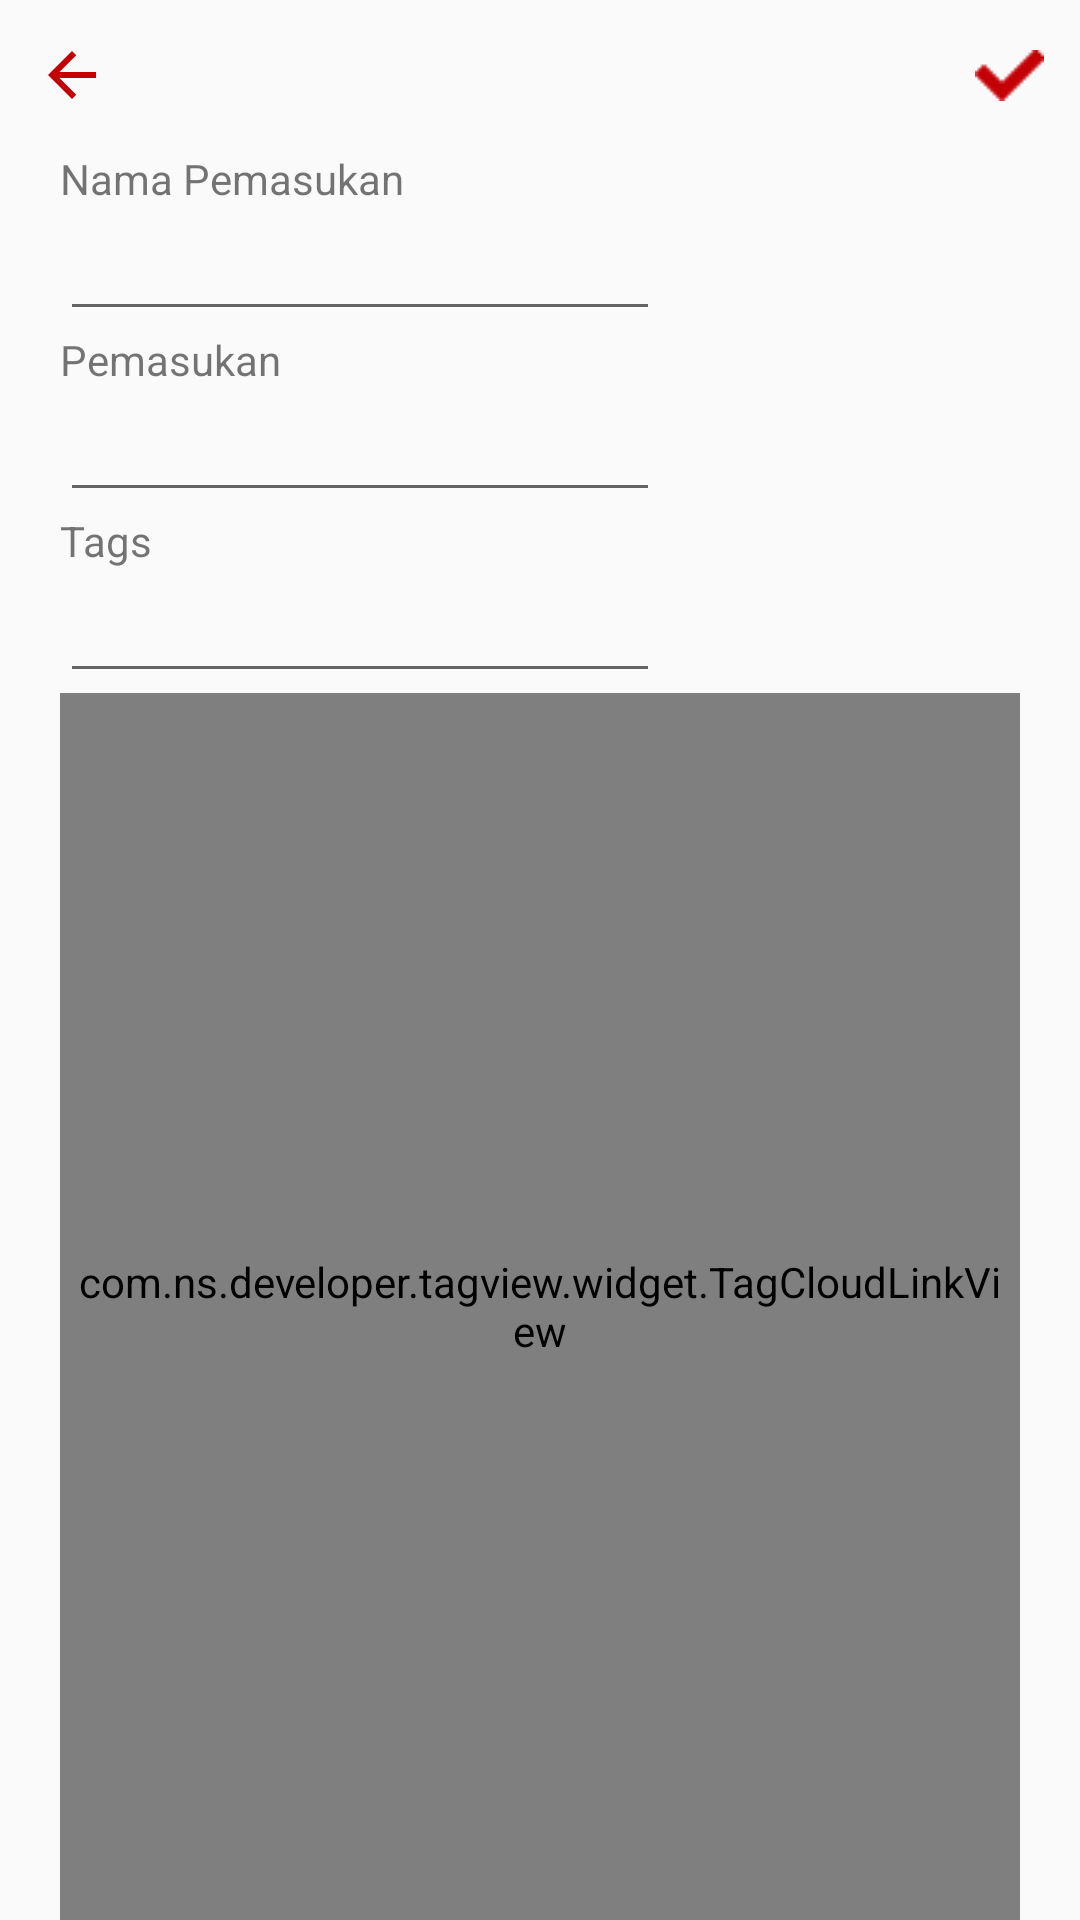

Screen size 1080x1920. Icon name, then its box in pixels as (x1, y1, x2, y2):
arrow back: (48, 51, 96, 99)
check: (975, 50, 1044, 101)
